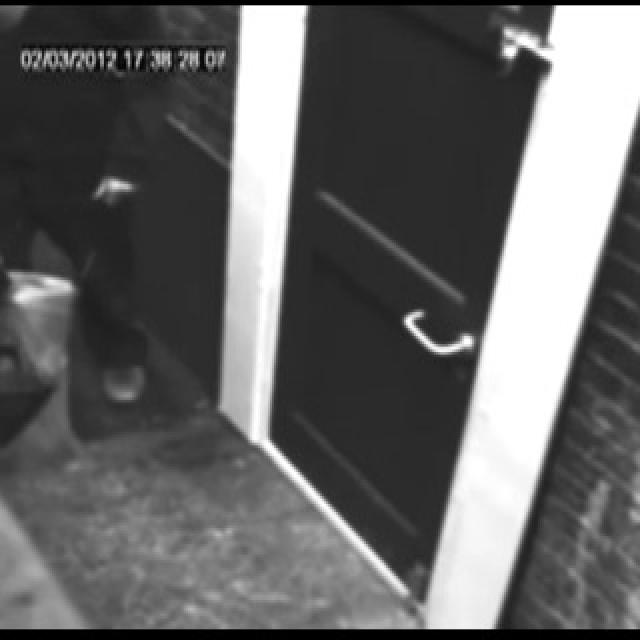thief: (0, 5, 152, 395)
